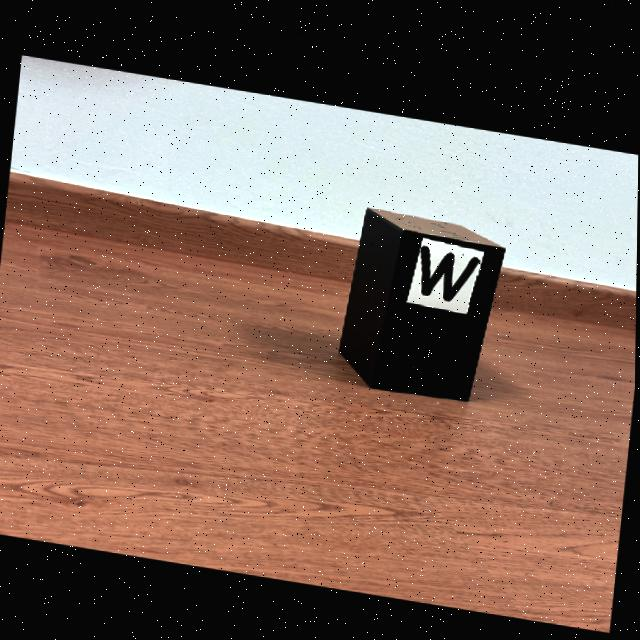W: (421, 239, 480, 294)
